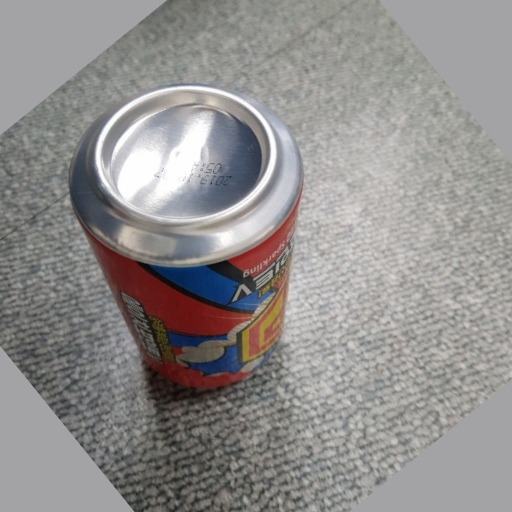Metal_0: (65, 83, 303, 397)
